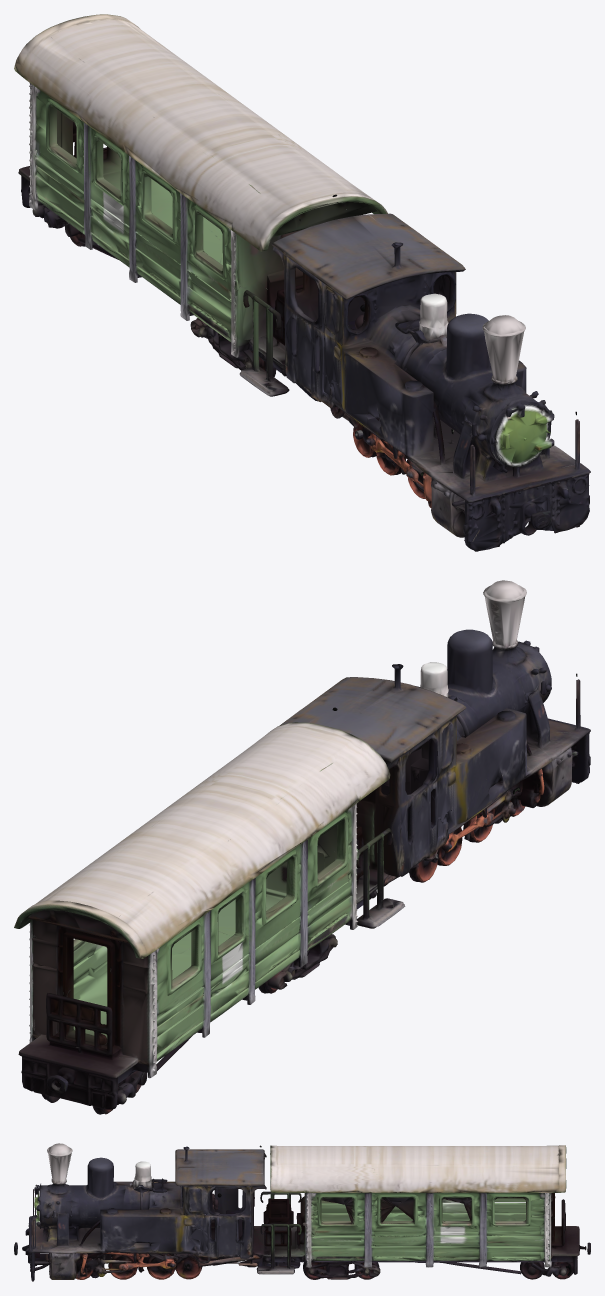
Rendered from samoborcek.opt4k.glb.
The picture shows the model from 3 angles, top to bottom: view 1: azimuth 30°, elevation 25°; view 2: azimuth 150°, elevation 25°; view 3: azimuth 270°, elevation 25°; orthographic projection. The views are drawn at different scales.
Visible parts, largest first — view 1: world; view 2: world; view 3: world.
Part boxes in pixels (left/top/right/bottom): world: left=14, top=14, right=590, bottom=551; world: left=14, top=580, right=590, bottom=1114; world: left=14, top=1143, right=590, bottom=1281.
Size of the model in its own units: 0.1637 by 0.2428 by 1.
Materials: 1 (1 with a texture image).
